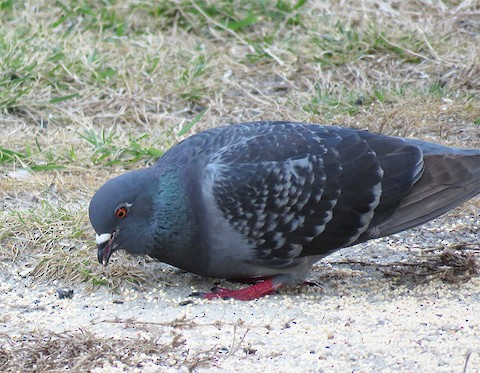pigeon: (83, 115, 467, 303)
